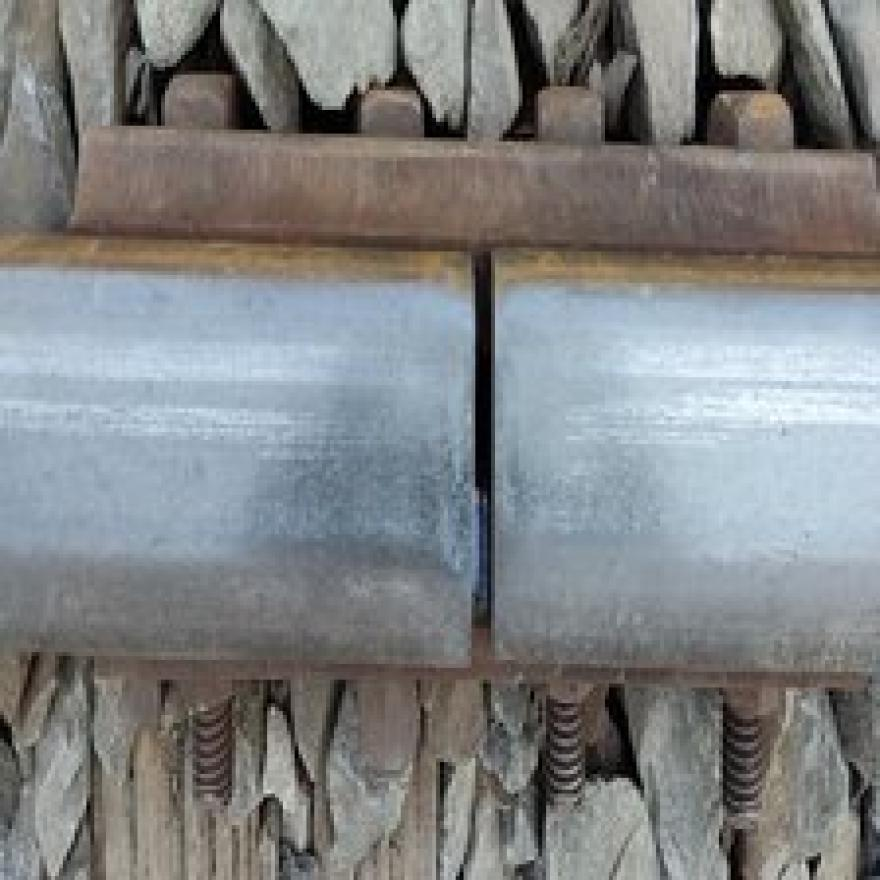railway-gap: (275, 216, 690, 680)
